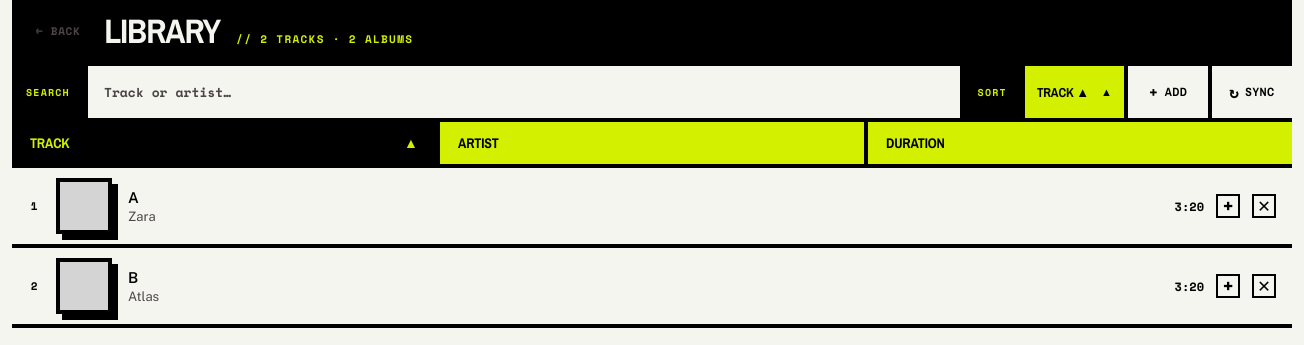
Test case: LibraryPageComponent › closes the panel and applies the sort when an option is selected
Click the button with class "sort-option" showing "ARTIST".
click(478, 143)  # box [440, 122, 868, 164]
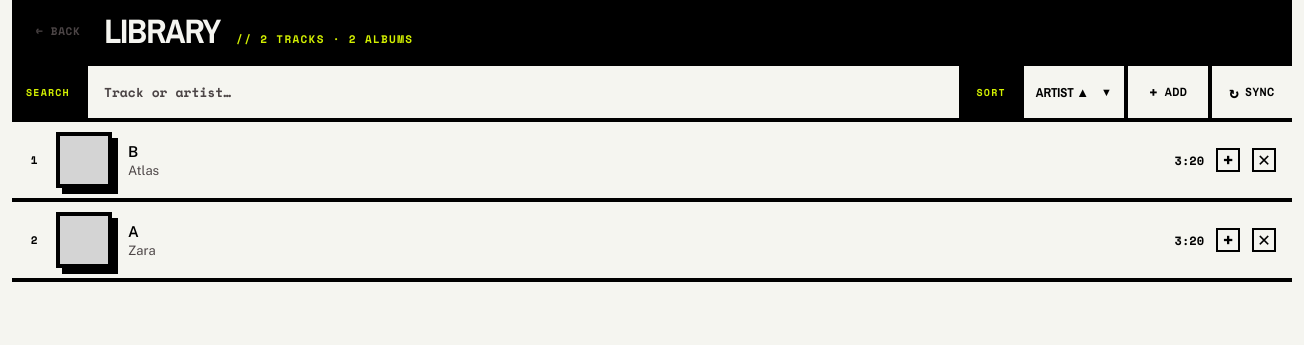
Check: the list with class "sort-panel" is gone
